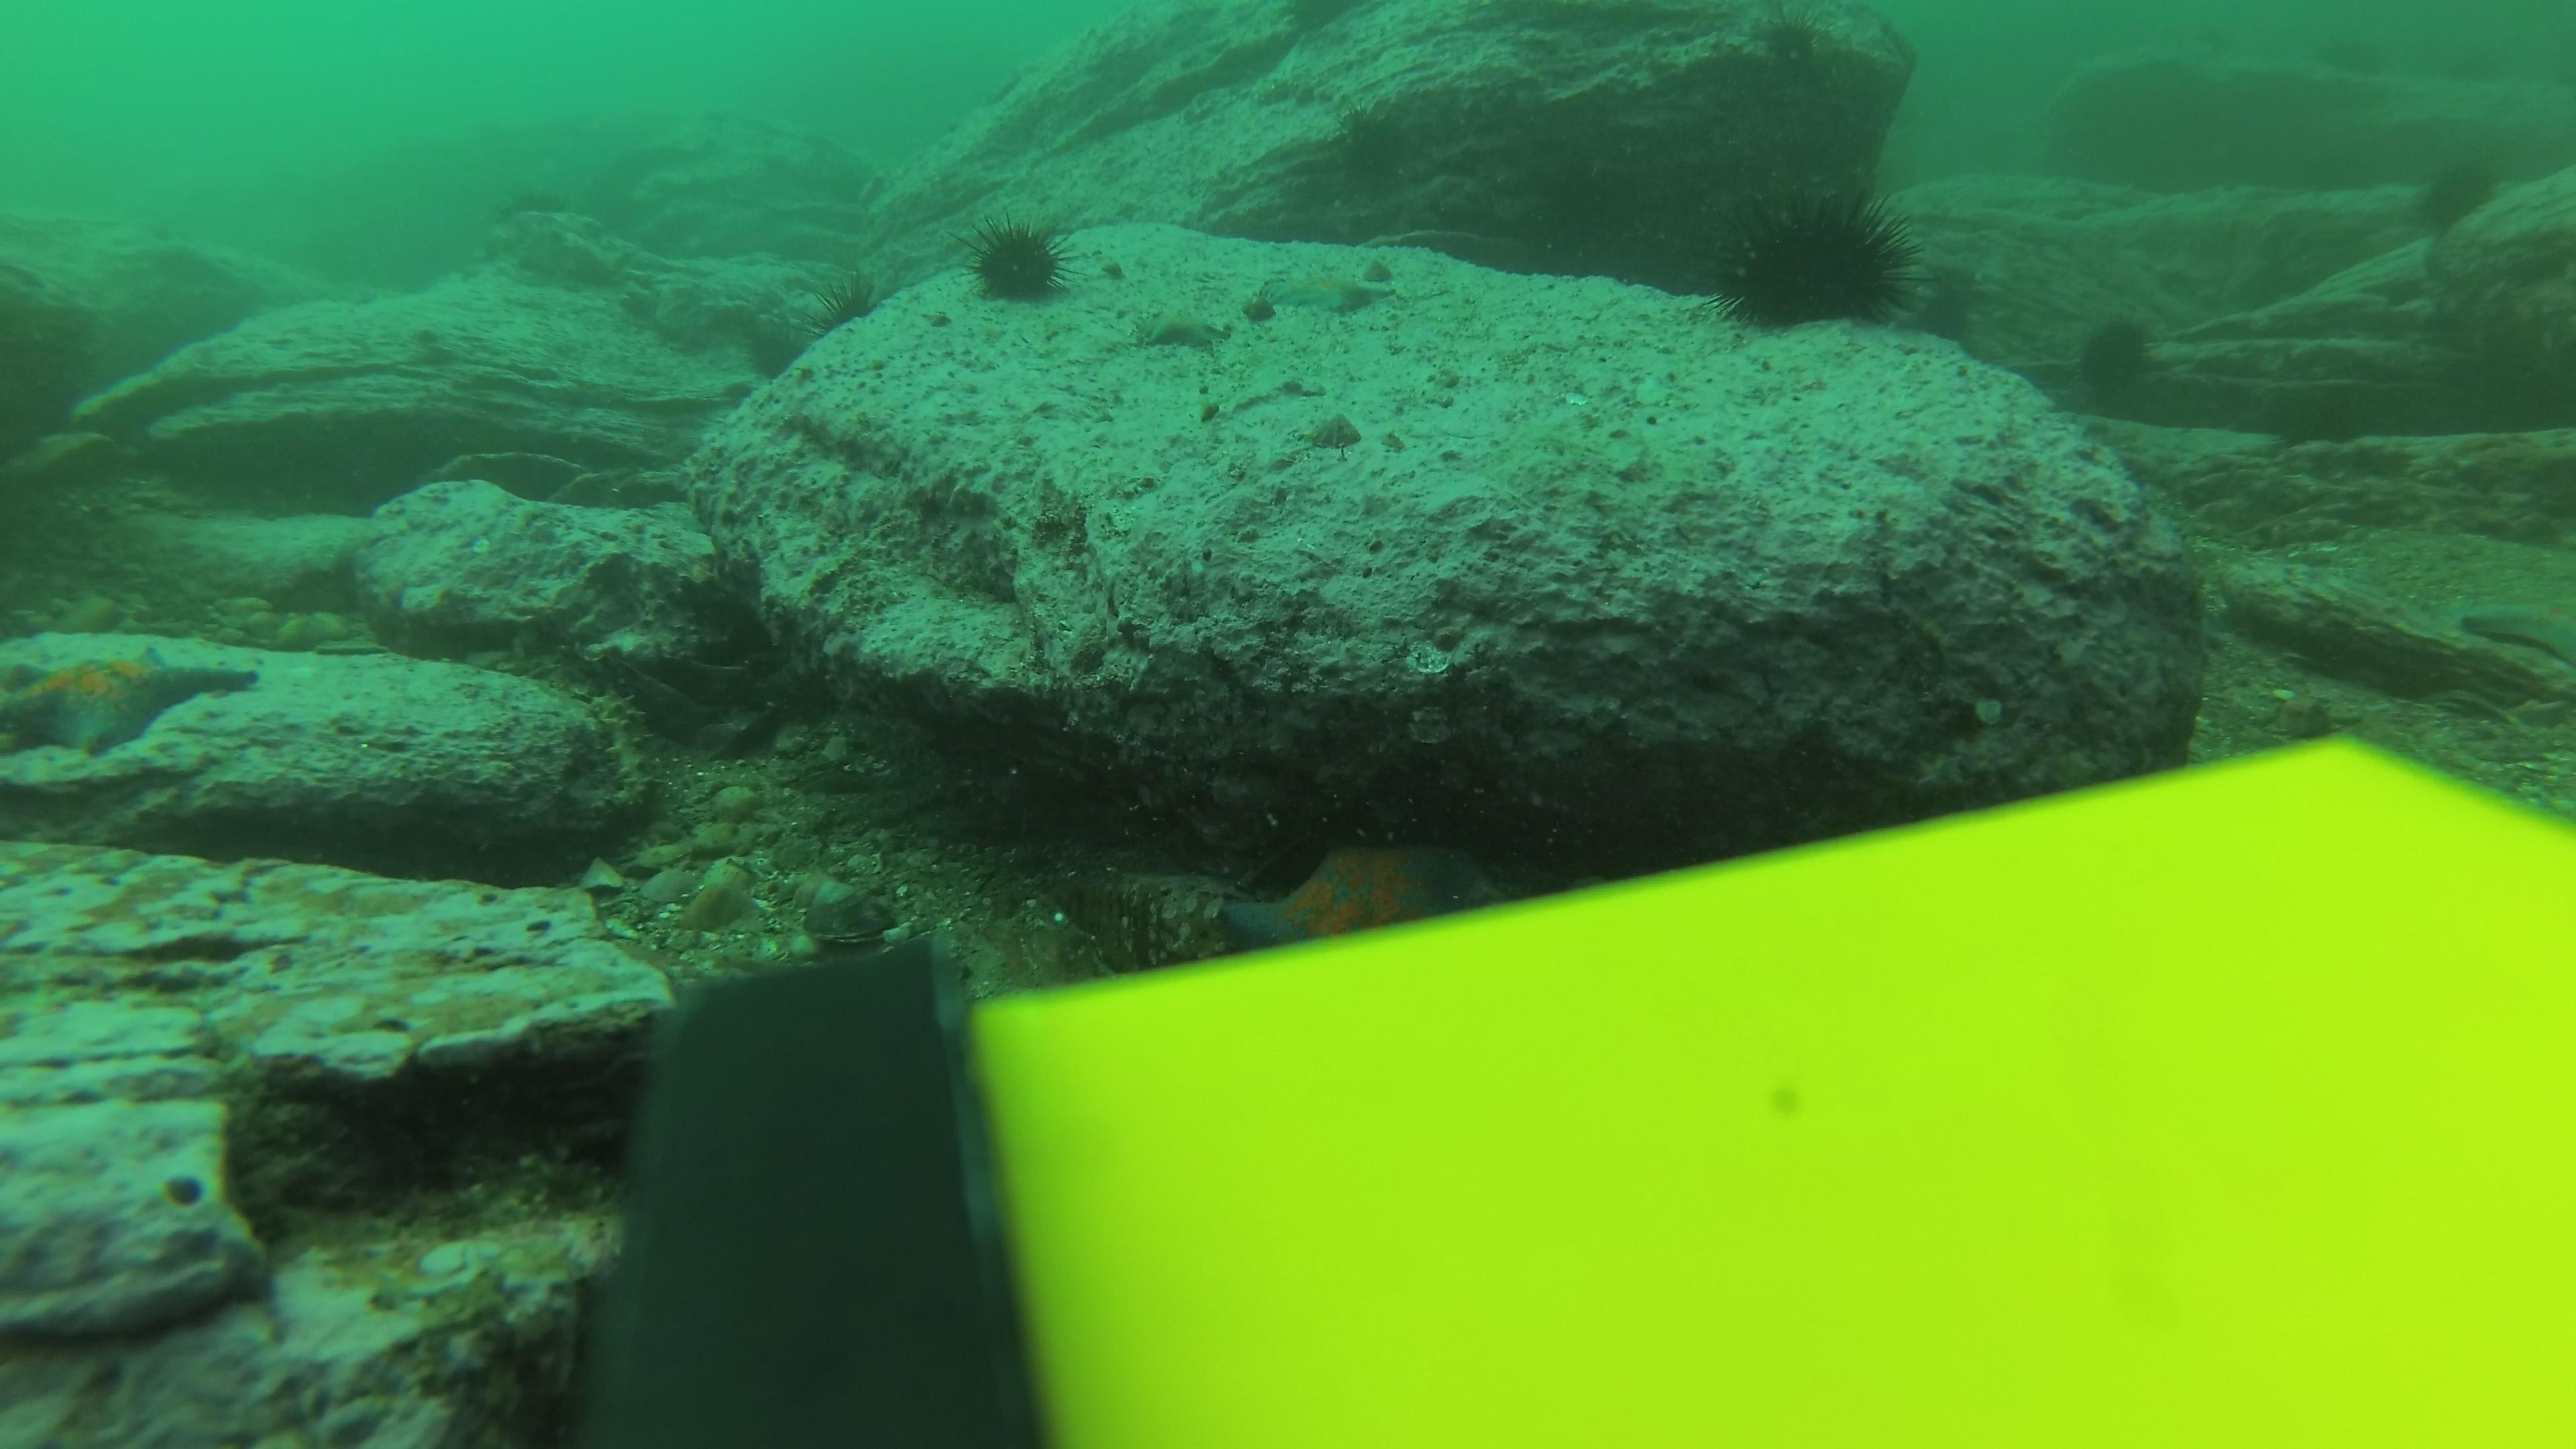echinus: (1702, 180, 1923, 341), (780, 253, 904, 357), (957, 211, 1079, 315), (2058, 308, 2171, 416), (2406, 147, 2509, 239)
starfish: (0, 630, 267, 768), (1207, 833, 1520, 950), (2449, 591, 2574, 672), (1253, 264, 1399, 324), (1129, 301, 1235, 357)
